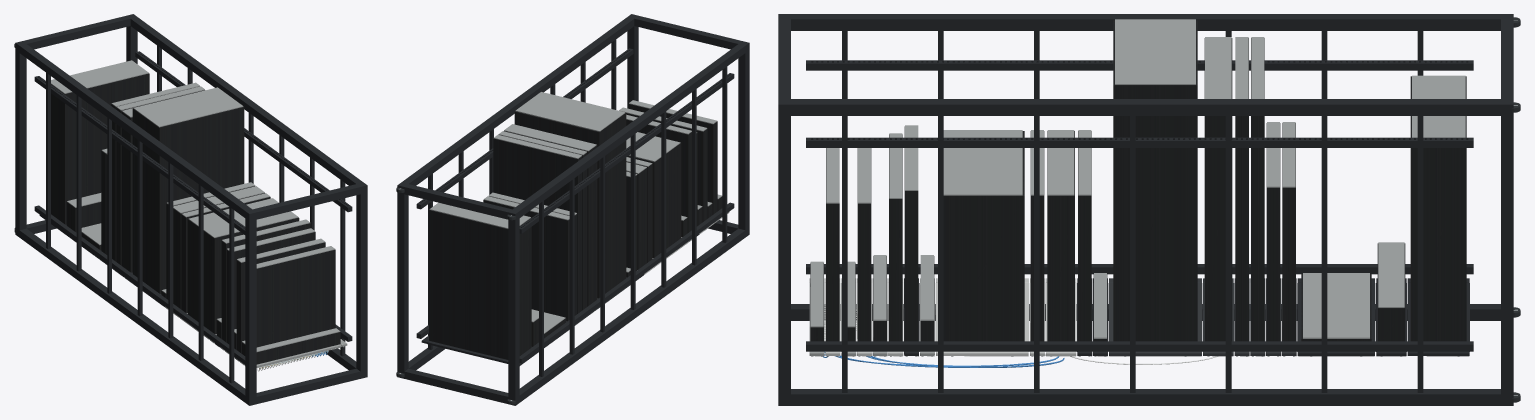
Rendered from cisco-enterprise-42u.glb.
3 views of the same model, side by side, from view 1: azimuth 30°, elevation 25°; view 2: azimuth 150°, elevation 25°; view 3: azimuth 270°, elevation 25° (orthographic). The views are drawn at different scales.
Parts seen in each view (by area): view 1: RACK_FRAME__nexus_black, UCS_5108__steel_textured, SIDE_BRACES__nexus_black, C9300_48P__steel_textured, CISCO_UPS__steel_textured, MOUNTING_RAILS__nexus_black, C9404R__steel_textured, UCS_5108__cisco_grey_dark, UCS_C240__steel_textured, C9404R__cisco_grey_dark, CISCO_UPS__cisco_grey_dark, C9300_24P__steel_textured (+20 smaller); view 2: RACK_FRAME__nexus_black, CISCO_UPS__steel_textured, SIDE_BRACES__nexus_black, UCS_5108__steel_textured, MOUNTING_RAILS__nexus_black, UCS_C220_B__steel_textured, UCS_6536_B__steel_textured, C9404R__steel_textured, UCS_5108__cisco_grey_dark, UCS_C240__steel_textured, NEXUS_9336C__steel_textured, C9300_48P__steel_textured (+14 smaller); view 3: RACK_FRAME__nexus_black, MOUNTING_RAILS__nexus_black, UCS_5108__steel_textured, SIDE_BRACES__nexus_black, C9404R__steel_textured, CISCO_UPS__steel_textured, UCS_C240__steel_textured, UCS_5108__cisco_grey_dark, C9404R__cisco_grey_dark, ISR_4451X__steel_textured, BLANK_BASE__cisco_grey_dark, UCS_C220_B__steel_textured (+34 smaller).
Boxes of the visible parts, box(x1,y1,x2,y2) form: RACK_FRAME__nexus_black: box(15, 14, 367, 405); UCS_5108__steel_textured: box(132, 107, 244, 293); SIDE_BRACES__nexus_black: box(46, 45, 345, 383); C9300_48P__steel_textured: box(256, 249, 335, 347); CISCO_UPS__steel_textured: box(51, 73, 149, 224); MOUNTING_RAILS__nexus_black: box(34, 51, 352, 364); C9404R__steel_textured: box(187, 217, 299, 334); UCS_5108__cisco_grey_dark: box(133, 87, 243, 127); UCS_C240__steel_textured: box(121, 111, 132, 272); C9404R__cisco_grey_dark: box(188, 198, 298, 237); CISCO_UPS__cisco_grey_dark: box(51, 60, 148, 93); C9300_24P__steel_textured: box(236, 242, 325, 353); RACK_FRAME__nexus_black: box(397, 14, 749, 405); CISCO_UPS__steel_textured: box(429, 210, 531, 359); SIDE_BRACES__nexus_black: box(428, 39, 727, 376); UCS_5108__steel_textured: box(514, 111, 626, 298); MOUNTING_RAILS__nexus_black: box(416, 48, 734, 363); UCS_C220_B__steel_textured: box(493, 138, 582, 313); UCS_6536_B__steel_textured: box(483, 200, 569, 321); C9404R__steel_textured: box(627, 143, 681, 258); UCS_5108__cisco_grey_dark: box(515, 92, 625, 131); UCS_C240__steel_textured: box(504, 131, 597, 306); NEXUS_9336C__steel_textured: box(626, 119, 691, 232); C9300_48P__steel_textured: box(628, 104, 717, 214); RACK_FRAME__nexus_black: box(778, 14, 1513, 405); MOUNTING_RAILS__nexus_black: box(806, 60, 1473, 351); UCS_5108__steel_textured: box(1113, 20, 1197, 341); SIDE_BRACES__nexus_black: box(842, 31, 1423, 392); C9404R__steel_textured: box(943, 131, 1024, 341); CISCO_UPS__steel_textured: box(1410, 76, 1466, 341); UCS_C240__steel_textured: box(1204, 38, 1232, 341); UCS_5108__cisco_grey_dark: box(1115, 19, 1195, 84); C9404R__cisco_grey_dark: box(943, 130, 1022, 195); ISR_4451X__steel_textured: box(1047, 131, 1074, 341); BLANK_BASE__cisco_grey_dark: box(1303, 273, 1369, 338); UCS_C220_B__steel_textured: box(1251, 38, 1264, 341).
Size of the model in its own units: 0.609 by 0.9634 by 2.1.
Materials: 30 (5 with a texture image).
